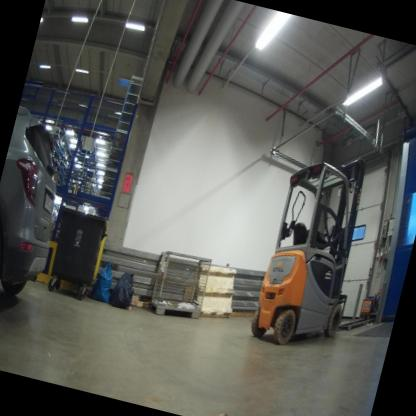forklift: (245, 137, 386, 365)
stillage: (141, 239, 224, 333)
